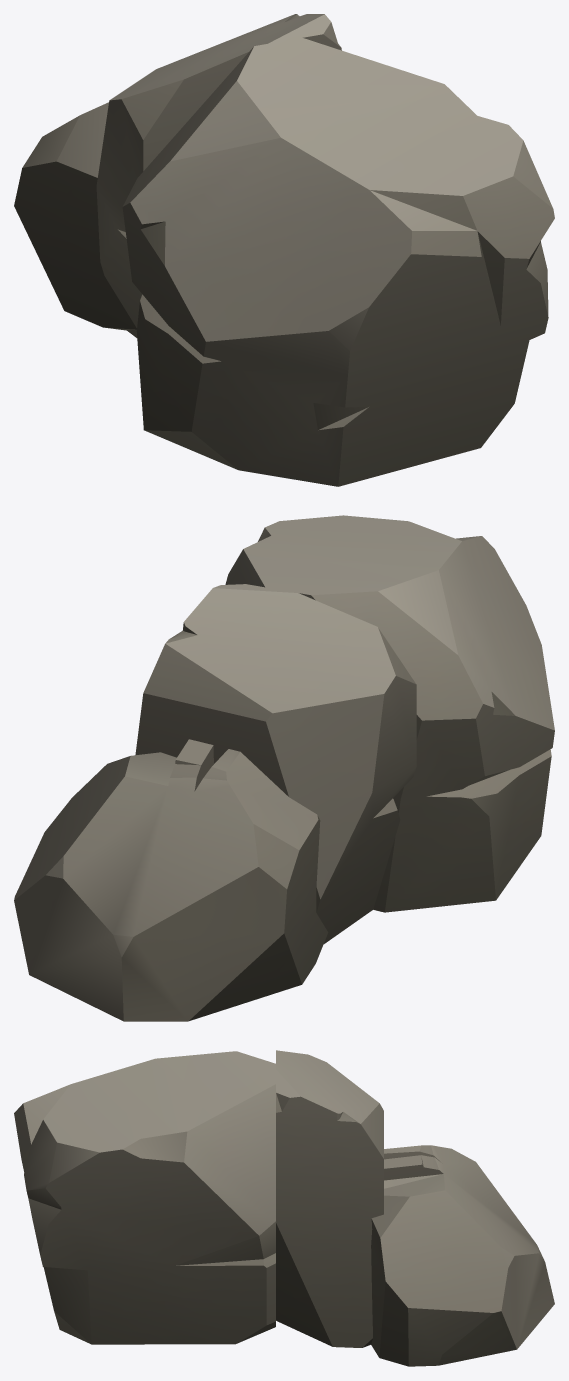
The model's file is Rock_Large_3A.fbx.
The picture shows the model from 3 angles, top to bottom: view 1: azimuth 30°, elevation 25°; view 2: azimuth 150°, elevation 25°; view 3: azimuth 270°, elevation 25°; orthographic projection. The views are drawn at different scales.
Visible parts, largest first — view 1: Rock_Large_3A; view 2: Rock_Large_3A; view 3: Rock_Large_3A.
Part boxes in pixels (x1,y1,x2,y2): Rock_Large_3A: [14, 14, 554, 486]; Rock_Large_3A: [14, 515, 554, 1021]; Rock_Large_3A: [14, 1050, 554, 1366].
Bounding box in the file's own units: 468 × 408 × 848.
